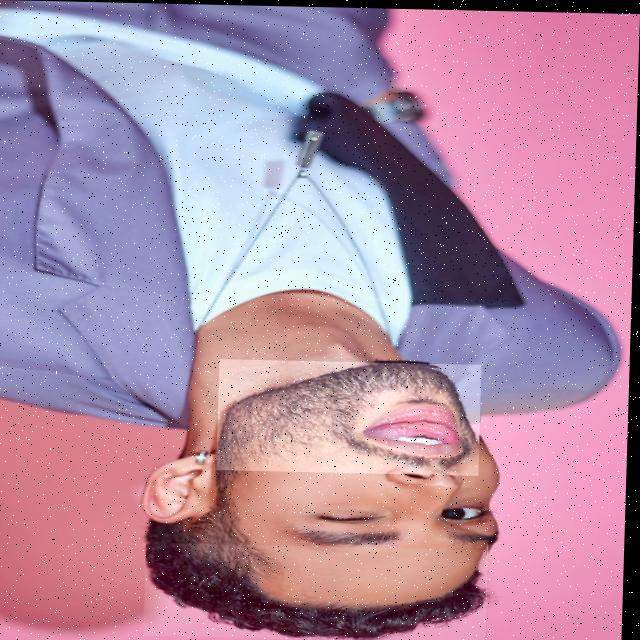beard: (219, 361, 482, 469)
hair: (150, 542, 491, 638)
